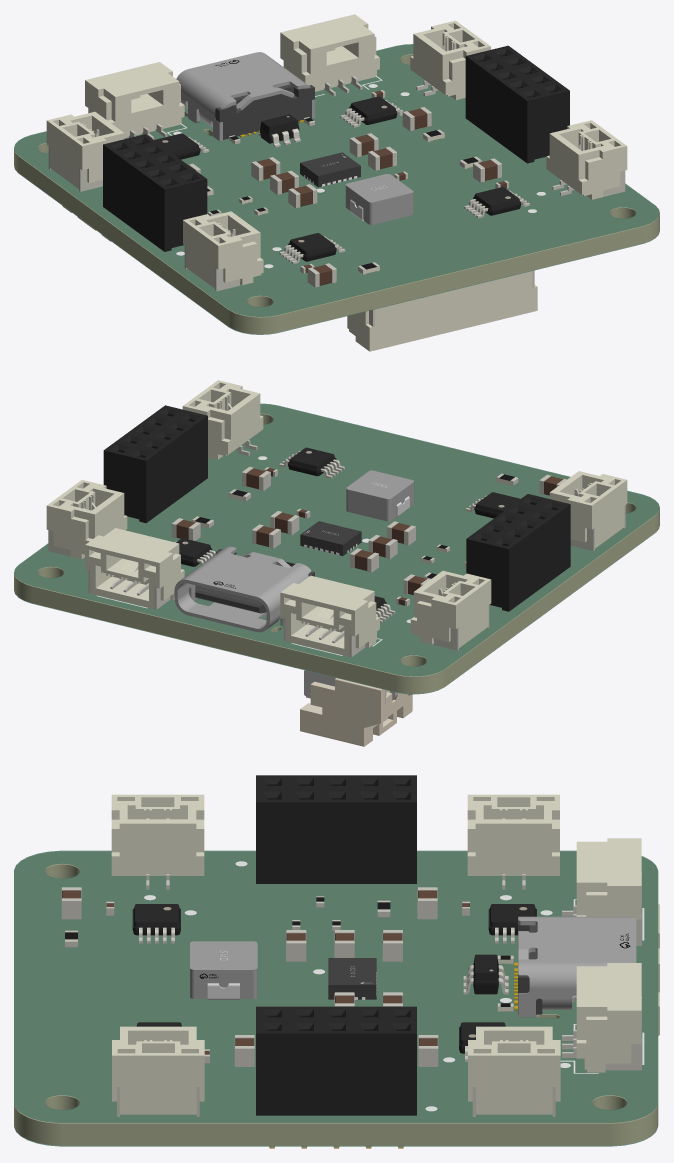
Rendered from BugBot_Motion_Board.glb.
The picture shows the model from 3 angles, top to bottom: view 1: azimuth 30°, elevation 25°; view 2: azimuth 150°, elevation 25°; view 3: azimuth 270°, elevation 25°; orthographic projection. The views are drawn at different scales.
Visible parts, largest first — view 1: =>[0:1:1:44], =>[0:1:1:42], =>[0:1:1:7] (×4), =>[0:1:1:19] (×2), =>[0:1:1:23] (×2), =>[0:1:1:25], =>[0:1:1:33], =>[0:1:1:3] (×4), =>[0:1:1:5] (×8), =>[0:1:1:17], =>[0:1:1:21], =>[0:1:1:13] (+1 smaller); view 2: =>[0:1:1:44], =>[0:1:1:42], =>[0:1:1:7] (×4), =>[0:1:1:19] (×2), =>[0:1:1:23] (×2), =>[0:1:1:25], =>[0:1:1:39], =>[0:1:1:5] (×7), =>[0:1:1:3] (×3), =>[0:1:1:17], =>[0:1:1:21], =>[0:1:1:43]; view 3: =>[0:1:1:44], =>[0:1:1:42], =>[0:1:1:19] (×2), =>[0:1:1:7] (×4), =>[0:1:1:23] (×2), =>[0:1:1:25], =>[0:1:1:5] (×7), =>[0:1:1:17], =>[0:1:1:3] (×3), =>[0:1:1:21], =>[0:1:1:13], =>[0:1:1:43] (+1 smaller).
Boxes of the visible parts, x1,y1,x2,y2 form: =>[0:1:1:44]: (14,45,659,334); =>[0:1:1:42]: (14,44,659,316); =>[0:1:1:7] (×4): (46,20,627,291); =>[0:1:1:19] (×2): (103,45,569,251); =>[0:1:1:23] (×2): (85,14,379,139); =>[0:1:1:25]: (176,52,314,140); =>[0:1:1:33]: (347,270,537,351); =>[0:1:1:3] (×4): (154,96,529,264); =>[0:1:1:5] (×8): (251,107,501,287); =>[0:1:1:17]: (345,174,413,224); =>[0:1:1:21]: (300,152,360,187); =>[0:1:1:13]: (258,114,300,147); =>[0:1:1:44]: (14,404,659,693); =>[0:1:1:42]: (14,403,659,676); =>[0:1:1:7] (×4): (46,380,627,650); =>[0:1:1:19] (×2): (103,405,570,611); =>[0:1:1:23] (×2): (85,528,379,657); =>[0:1:1:25]: (174,546,314,632); =>[0:1:1:39]: (300,670,412,746); =>[0:1:1:5] (×7): (171,466,415,572); =>[0:1:1:3] (×3): (175,447,520,566); =>[0:1:1:17]: (346,470,414,521); =>[0:1:1:21]: (300,521,361,555); =>[0:1:1:43]: (14,527,659,694); =>[0:1:1:44]: (14,852,658,1145); =>[0:1:1:42]: (14,850,658,1122); =>[0:1:1:19] (×2): (256,775,416,1148); =>[0:1:1:7] (×4): (111,794,560,1116); =>[0:1:1:23] (×2): (562,838,641,1072); =>[0:1:1:25]: (514,916,636,1017); =>[0:1:1:5] (×7): (61,887,438,1066); =>[0:1:1:17]: (190,941,257,999); =>[0:1:1:3] (×3): (132,904,536,1061); =>[0:1:1:21]: (328,958,376,999); =>[0:1:1:13]: (463,954,508,994); =>[0:1:1:43]: (14,1125,658,1146).
Bounding box in the file's own units: 0.04 × 0.0128 × 0.0401.
